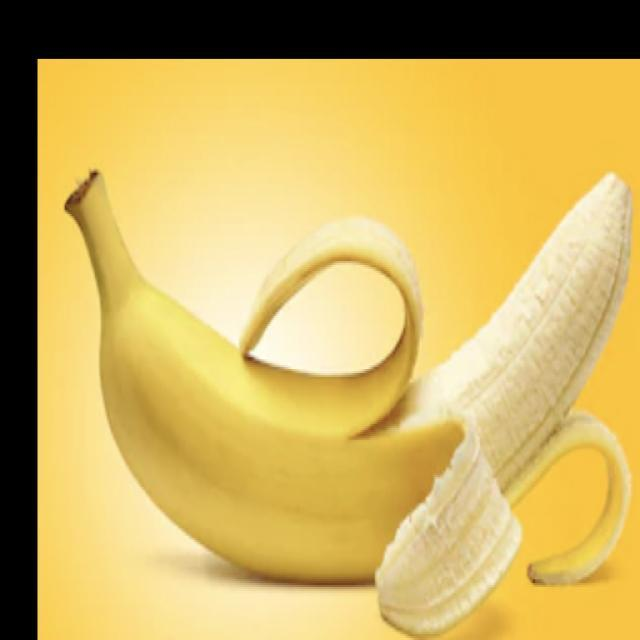Banana: (63, 165, 633, 636)
